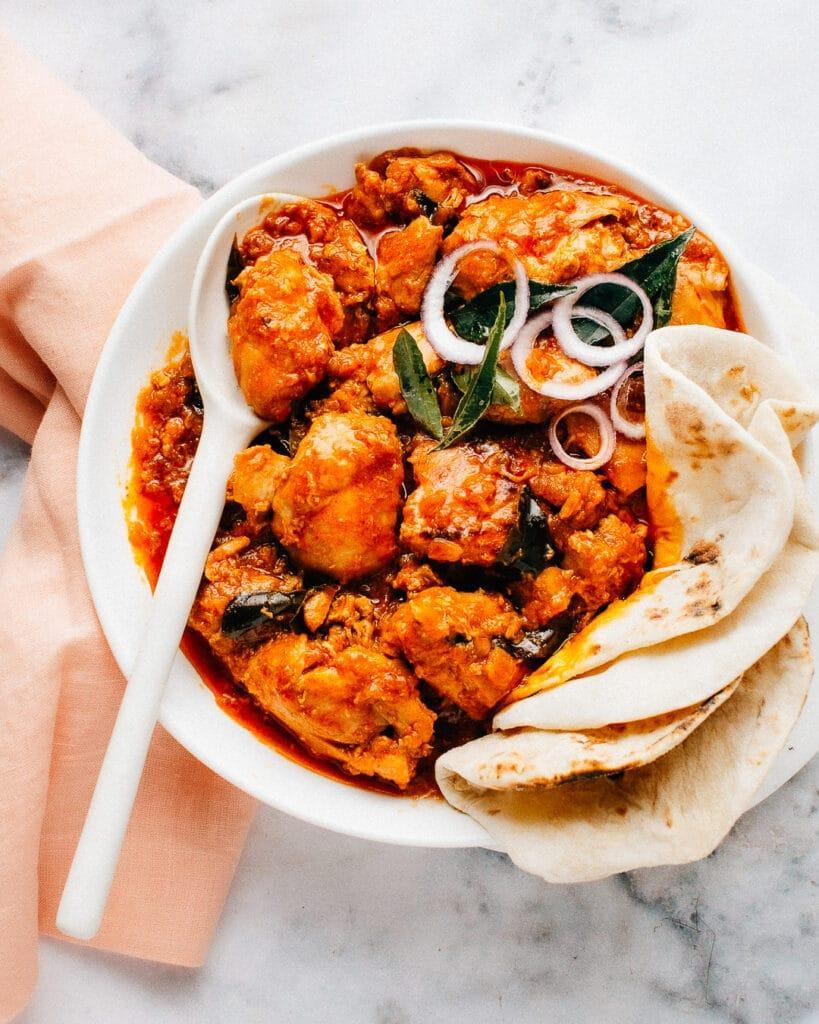chicken: (165, 164, 630, 762)
roti: (645, 344, 810, 845)
